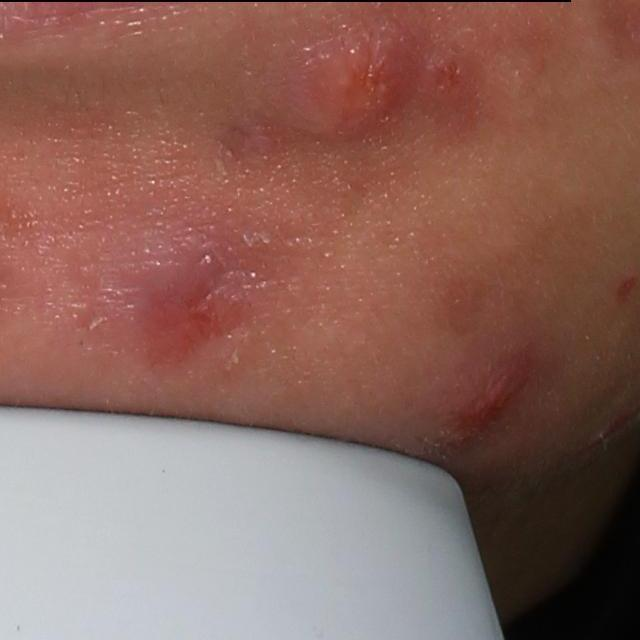nodule: (257, 7, 452, 148), (94, 243, 221, 355)
papule: (438, 355, 535, 452)
